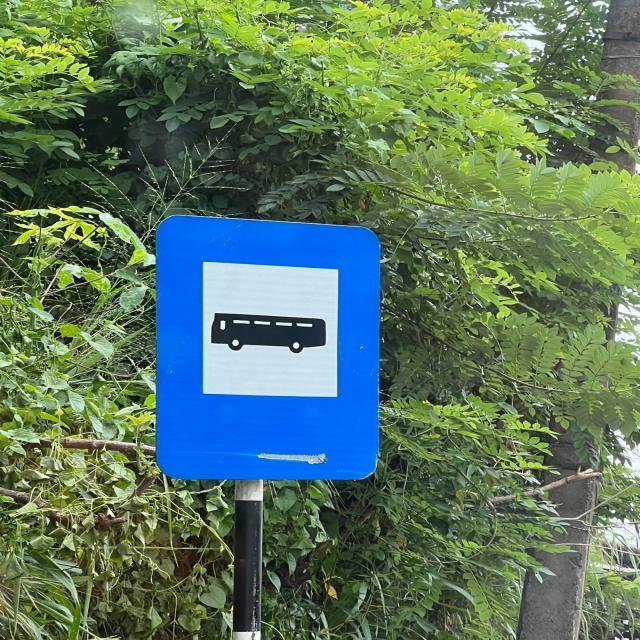bus_stop: (150, 210, 386, 484)
